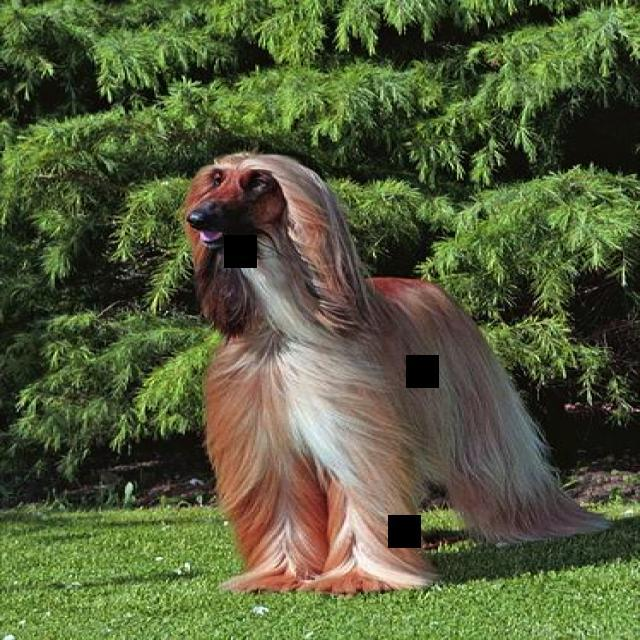adult_dog: (180, 148, 614, 601)
